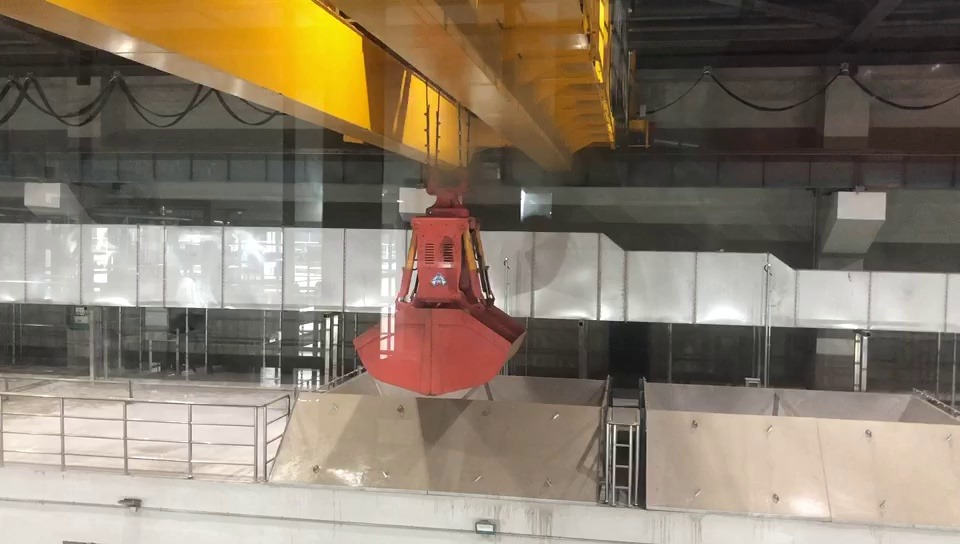grab: (344, 190, 533, 400)
